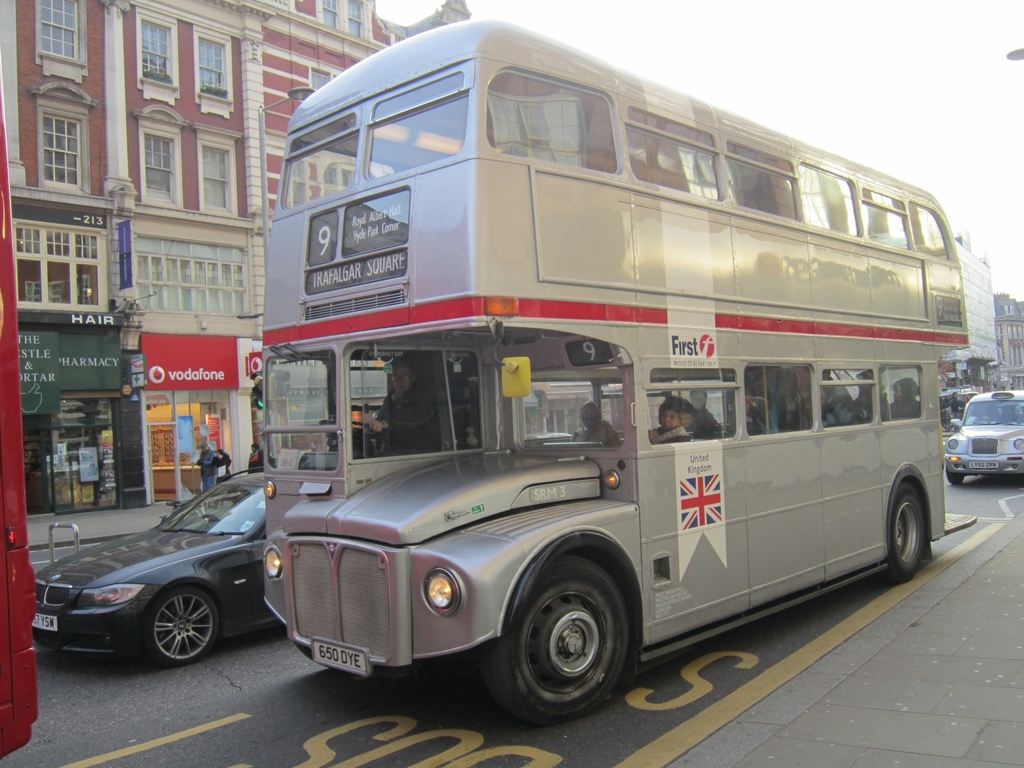Bus: (262, 19, 969, 725)
